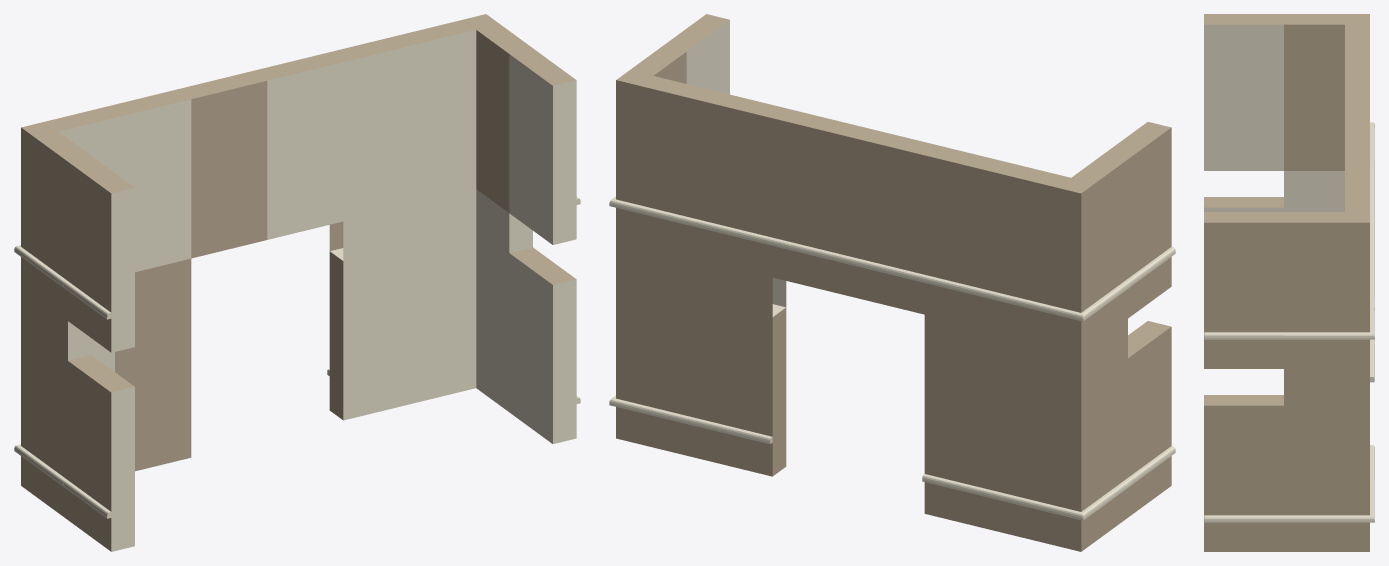
File: FrontPiece2.glb
The picture shows the model from 3 angles, left to right: view 1: azimuth 30°, elevation 25°; view 2: azimuth 150°, elevation 25°; view 3: azimuth 270°, elevation 25°; orthographic projection. The views are drawn at different scales.
Visible parts, largest first — view 1: BaseWall; view 2: BaseWall; view 3: BaseWall.
Part boxes in pixels (x1=…): BaseWall: x1=14, y1=14, x2=580, y2=551; BaseWall: x1=609, y1=14, x2=1175, y2=551; BaseWall: x1=1204, y1=14, x2=1374, y2=551.
Size of the model in its own units: 12.45 by 9 by 4.23.
